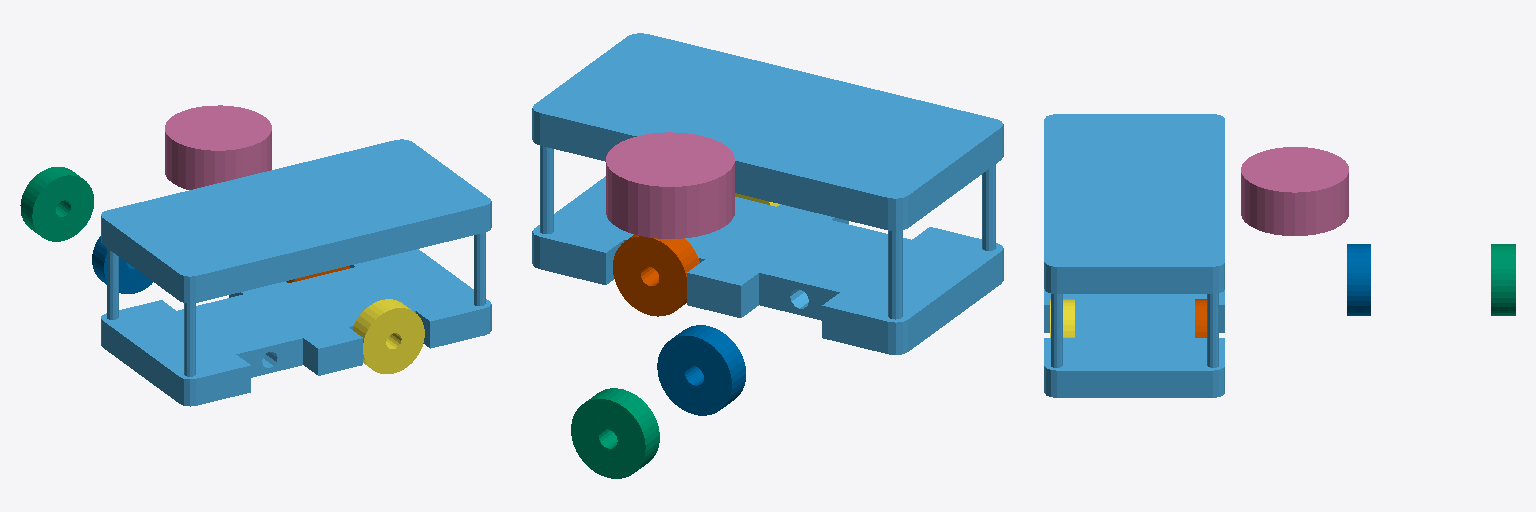
The robot description file, URDF, robot "robot":
<?xml version="1.0" encoding="utf-8"?>
<robot name="robot">

  <!-- ── Dummy root link ────────────────────────────────────────────────
       KDL (used by robot_state_publisher) does not support inertia on the
       root link and prints a warning if it finds one.  The fix is a
       massless, geometry-less base_footprint as the true root, joined to
       base_link with a fixed joint.  This is standard ROS convention.
  ──────────────────────────────────────────────────────────────────────── -->
  <link name="base_footprint"/>

  <joint name="base_footprint_joint" type="fixed">
    <parent link="base_footprint"/>
    <child  link="base_link"/>
    <origin xyz="0 0 0" rpy="0 0 0"/>
  </joint>

  <!-- BASE LINK -->
  <link name="base_link">
    <inertial>
      <origin xyz="0.0784152670222775 0.094776716004553 0.045" rpy="0 0 0" />
      <mass value="4" />
      <inertia ixx="0.00831118932493888"
               ixy="1.02401627657194E-19"
               ixz="5.57188860615719E-19"
               iyy="0.0201894602199616"
               iyz="-1.45311410016371E-19"
               izz="0.021267894957894" />
    </inertial>
    <visual>
      <origin xyz="0 0 0" rpy="0 0 0" />
      <geometry>
        <mesh filename="model://robot/meshes/base_link.STL" />
      </geometry>
    </visual>
    <collision>
      <origin xyz="0.08 0.09 0.045" rpy="0 0 0" />
      <geometry>
        <box size="0.30 0.15 0.06" />
      </geometry>
    </collision>
  </link>

  <!-- WHEEL 1 (Left Front) -->
  <link name="wheel1">
    <inertial>
      <origin xyz="0 0 0.01" rpy="0 0 0" />
      <mass value="0.0530143760293277" />
      <inertia ixx="1.44408951371554E-05" ixy="0" ixz="0"
               iyy="1.44408951371554E-05" iyz="0"
               izz="2.53474985390223E-05" />
    </inertial>
    <visual>
      <geometry>
        <mesh filename="model://robot/meshes/wheel1.STL" />
      </geometry>
        <material>
	    <ambient>1 0 0 1</ambient>
	    <diffuse>1 0 0 1</diffuse>
	    <specular>0.2 0.2 0.2 1</specular>
  </material>
    </visual>
    <collision>
      <geometry>
        <cylinder radius="0.03" length="0.02" />
      </geometry>
    </collision>
  </link>
  <joint name="wheel1_joint" type="continuous">
    <origin xyz="0.024194  0.183 0.042737" rpy="1.5708 -0.7627 0" />
    <parent link="base_link" />
    <child  link="wheel1" />
    <axis xyz="0 0 1" />
    <dynamics damping="0.1" friction="0.0" />
  </joint>

  <!-- WHEEL 2 (Right Front) -->
  <link name="wheel2">
    <inertial>
      <origin xyz="0 0 0.01" rpy="0 0 0" />
      <mass value="0.0530143760293277" />
      <inertia ixx="1.44408951371554E-05" ixy="0" ixz="0"
               iyy="1.44408951371554E-05" iyz="0"
               izz="2.53474985390223E-05" />
    </inertial>
    <visual>
      <geometry>
        <mesh filename="model://robot/meshes/wheel2.STL" />
      </geometry>
        <material>
    <ambient>0 1 0 1</ambient>
    <diffuse>0 1 0 1</diffuse>
    <specular>0.2 0.2 0.2 1</specular>
  </material>
    </visual>
    <collision>
      <geometry>
        <cylinder radius="0.03" length="0.02" />
      </geometry>
    </collision>
  </link>
  <joint name="wheel2_joint" type="continuous">
    <origin xyz="0.13264 -0.183 0.042737" rpy="-1.5708 0.8893 -3.1416" />
    <parent link="base_link" />
    <child  link="wheel2" />
    <axis xyz="0 0 1" />
    <dynamics damping="0.1" friction="0.0" />
  </joint>

  <!-- WHEEL 3 (Left Rear) -->
  <link name="wheel3">
    <inertial>
      <origin xyz="0 0 0.01" rpy="0 0 0" />
      <mass value="0.0530143760293278" />
      <inertia ixx="1.44408951371554E-05" ixy="0" ixz="0"
               iyy="1.44408951371554E-05" iyz="0"
               izz="2.53474985390223E-05" />
    </inertial>
    <visual>
      <geometry>
        <mesh filename="model://robot/meshes/wheel3.STL" />
      </geometry>
        <material>
    <ambient>0 0 1 1</ambient>
    <diffuse>0 0 1 1</diffuse>
    <specular>0.2 0.2 0.2 1</specular>
  </material>
    </visual>
    <collision>
      <geometry>
        <cylinder radius="0.03" length="0.02" />
      </geometry>
    </collision>
  </link>
  <joint name="wheel3_joint" type="continuous">
    <origin xyz="0.024194  0.062995 0.042737" rpy="1.5708 -0.80752 0" />
    <parent link="base_link" />
    <child  link="wheel3" />
    <axis xyz="0 0 1" />
    <dynamics damping="0.1" friction="0.0" />
  </joint>

  <!-- WHEEL 4 (Right Rear) -->
  <link name="wheel4">
    <inertial>
      <origin xyz="0 0 0.01" rpy="0 0 0" />
      <mass value="0.0530143760293278" />
      <inertia ixx="1.44408951371554E-05" ixy="0" ixz="0"
               iyy="1.44408951371554E-05" iyz="0"
               izz="2.53474985390223E-05" />
    </inertial>
    <visual>
      <geometry>
        <mesh filename="model://robot/meshes/wheel4.STL" />
      </geometry>
        <material>
    <ambient>1 1 0 1</ambient>
    <diffuse>1 1 0 1</diffuse>
    <specular>0.2 0.2 0.2 1</specular>
  </material>
    </visual>
    <collision>
      <geometry>
        <cylinder radius="0.03" length="0.02" />
      </geometry>
    </collision>
  </link>
  <joint name="wheel4_joint" type="continuous">
    <origin xyz="0.13264 -0.062995 0.042737" rpy="-1.5708 -0.77947 3.1416" />
    <parent link="base_link" />
    <child  link="wheel4" />
    <axis xyz="0 0 1" />
    <dynamics damping="0.1" friction="0.0" />
  </joint>

  <!-- LIDAR LINK -->
  <link name="lidar_link">
    <inertial>
      <mass value="0.05" />
      <inertia ixx="1e-5" ixy="0" ixz="0" iyy="1e-5" iyz="0" izz="1e-5" />
    </inertial>
    <visual>
      <geometry>
        <cylinder radius="0.045" length="0.04" />
      </geometry>
    </visual>
    <collision>
      <geometry>
        <cylinder radius="0.045" length="0.04" />
      </geometry>
    </collision>
  </link>
  <joint name="lidar_joint" type="fixed">
    <origin xyz="0.08 0 0.15" rpy="0 0 0" />
    <parent link="base_link" />
    <child  link="lidar_link" />
  </joint>

  <!-- ================= GAZEBO EXTENSIONS ================= -->

  <gazebo reference="wheel1">
    <mu1>1.0</mu1><mu2>1.0</mu2><kp>100000.0</kp><kd>1.0</kd>
  </gazebo>
  <gazebo reference="wheel2">
    <mu1>1.0</mu1><mu2>1.0</mu2><kp>100000.0</kp><kd>1.0</kd>
  </gazebo>
  <gazebo reference="wheel3">
    <mu1>1.0</mu1><mu2>1.0</mu2><kp>100000.0</kp><kd>1.0</kd>
  </gazebo>
  <gazebo reference="wheel4">
    <mu1>1.0</mu1><mu2>1.0</mu2><kp>100000.0</kp><kd>1.0</kd>
  </gazebo>

  <gazebo>
    <plugin filename="gz-sim-diff-drive-system"
            name="gz::sim::systems::DiffDrive">
      <left_joint>wheel1_joint</left_joint>
      <left_joint>wheel3_joint</left_joint>
      <right_joint>wheel2_joint</right_joint>
      <right_joint>wheel4_joint</right_joint>
      <wheel_separation>0.366</wheel_separation>
      <wheel_radius>0.03</wheel_radius>
      <topic>/cmd_vel</topic>
      <odom_topic>/odom</odom_topic>
      <frame_id>odom</frame_id>
      <child_frame_id>base_link</child_frame_id>
      <odom_publish_frequency>30</odom_publish_frequency>
    </plugin>
    <plugin filename="gz-sim-joint-state-publisher-system"
            name="gz::sim::systems::JointStatePublisher">
      <topic>/joint_states</topic>
    </plugin>
  </gazebo>

  <gazebo reference="lidar_link">
    <sensor name="gpu_lidar" type="gpu_lidar">
      <topic>/scan</topic>
      <update_rate>10</update_rate>
      <visualize>true</visualize>
      <always_on>true</always_on>
      <ray>
        <scan>
          <horizontal>
            <samples>720</samples>
            <resolution>1</resolution>
            <min_angle>-3.14159</min_angle>
            <max_angle>3.14159</max_angle>
          </horizontal>
        </scan>
        <range>
          <min>0.12</min>
          <max>8.0</max>
          <resolution>0.01</resolution>
        </range>
      </ray>
    </sensor>
  </gazebo>

</robot>

--- Render facts (derived) ---
Views: 3 orthographic renders of the robot side by side, from view 1: azimuth 30°, elevation 25°; view 2: azimuth 150°, elevation 25°; view 3: azimuth 270°, elevation 25°.
Model robot with 7 links and 6 joints (4 continuous, 2 fixed), rooted at base_footprint, posed every joint at zero.
Links seen in each view (by area): view 1: base_link, lidar_link, wheel1, wheel2, wheel3; view 2: base_link, lidar_link, wheel1, wheel3, wheel4; view 3: base_link, lidar_link, wheel1, wheel3.
Link boxes in pixels (left/top/right/bottom): base_link: left=101, top=139, right=491, bottom=406; lidar_link: left=165, top=105, right=271, bottom=189; wheel1: left=20, top=167, right=93, bottom=241; wheel2: left=353, top=299, right=424, bottom=373; wheel3: left=92, top=236, right=152, bottom=293; base_link: left=532, top=33, right=1003, bottom=354; lidar_link: left=606, top=132, right=734, bottom=238; wheel1: left=571, top=388, right=659, bottom=478; wheel3: left=657, top=325, right=745, bottom=415; wheel4: left=613, top=234, right=699, bottom=316; base_link: left=1044, top=114, right=1224, bottom=397; lidar_link: left=1241, top=147, right=1348, bottom=235; wheel1: left=1491, top=244, right=1515, bottom=315; wheel3: left=1347, top=244, right=1370, bottom=315.
Size in the robot's own frame: 0.3 by 0.391 by 0.1573 metres.
5 mesh visuals loaded from 5 distinct referenced files (5 binary STL).
